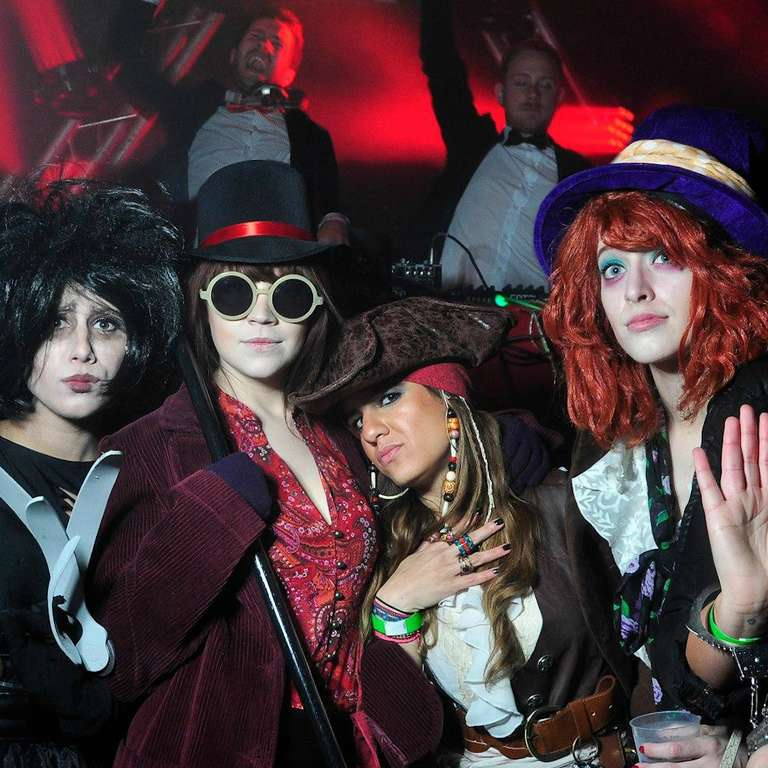bad: (196, 254, 325, 383), (581, 235, 689, 343), (32, 307, 139, 414), (501, 59, 563, 122)
